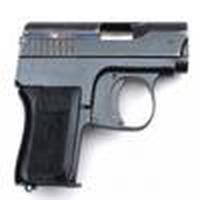gun: (12, 17, 190, 189)
